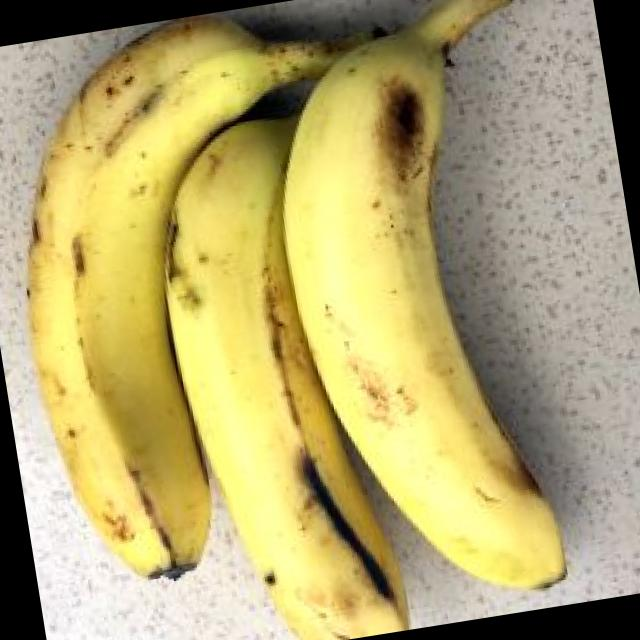banana: (131, 82, 614, 500)
